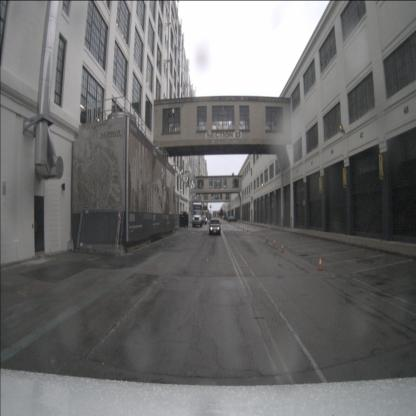movable_object-trafficcone: (317, 255, 324, 271), (280, 243, 284, 252), (266, 234, 269, 243), (273, 238, 276, 246)
vehicle-car: (209, 219, 221, 235)
vehicle-truck: (192, 203, 202, 227), (200, 206, 208, 224)
